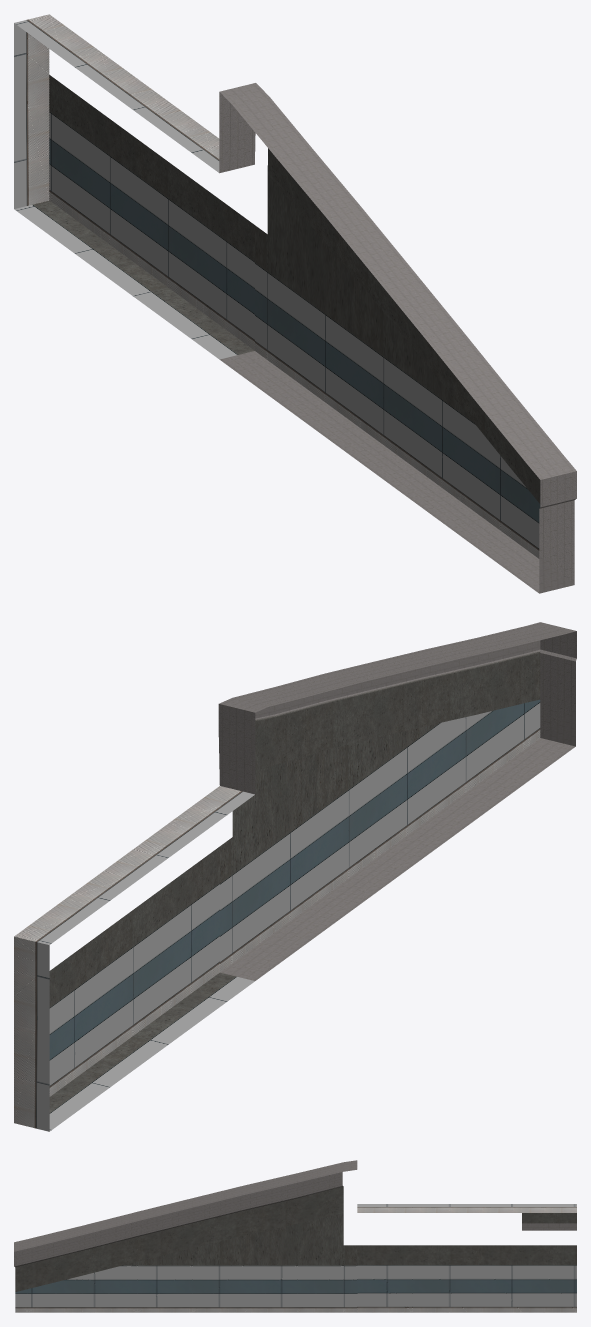
The model's file is median.fbx.
3 renders of one model, top to bottom at view 1: azimuth 30°, elevation 25°; view 2: azimuth 150°, elevation 25°; view 3: azimuth 270°, elevation 25°, orthographic. The views are drawn at different scales.
Visible parts, largest first — view 1: 12DR_Slope.001; view 2: 12DR_Slope.001; view 3: 12DR_Slope.001.
Part boxes in pixels (x1,y1,x2,y2): 12DR_Slope.001: (14, 14, 576, 593); 12DR_Slope.001: (14, 622, 576, 1131); 12DR_Slope.001: (14, 1160, 576, 1312).
Size of the model in its own units: 164 by 1151 by 4100.
